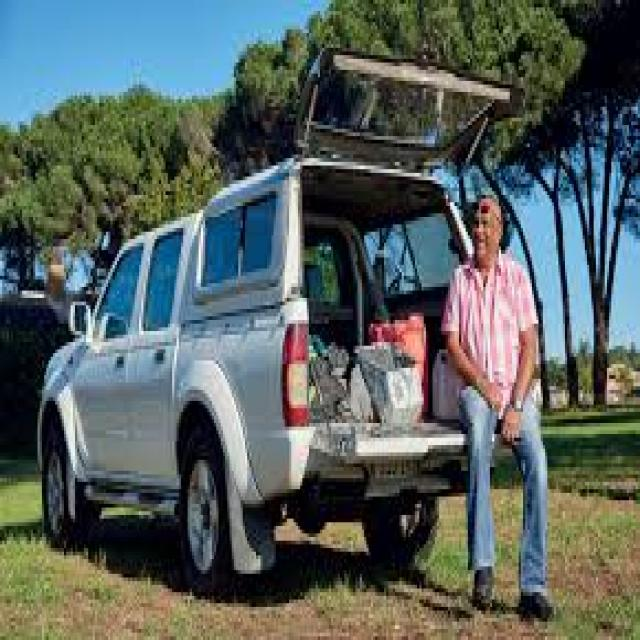Pickup Trucks: (36, 155, 450, 603)
